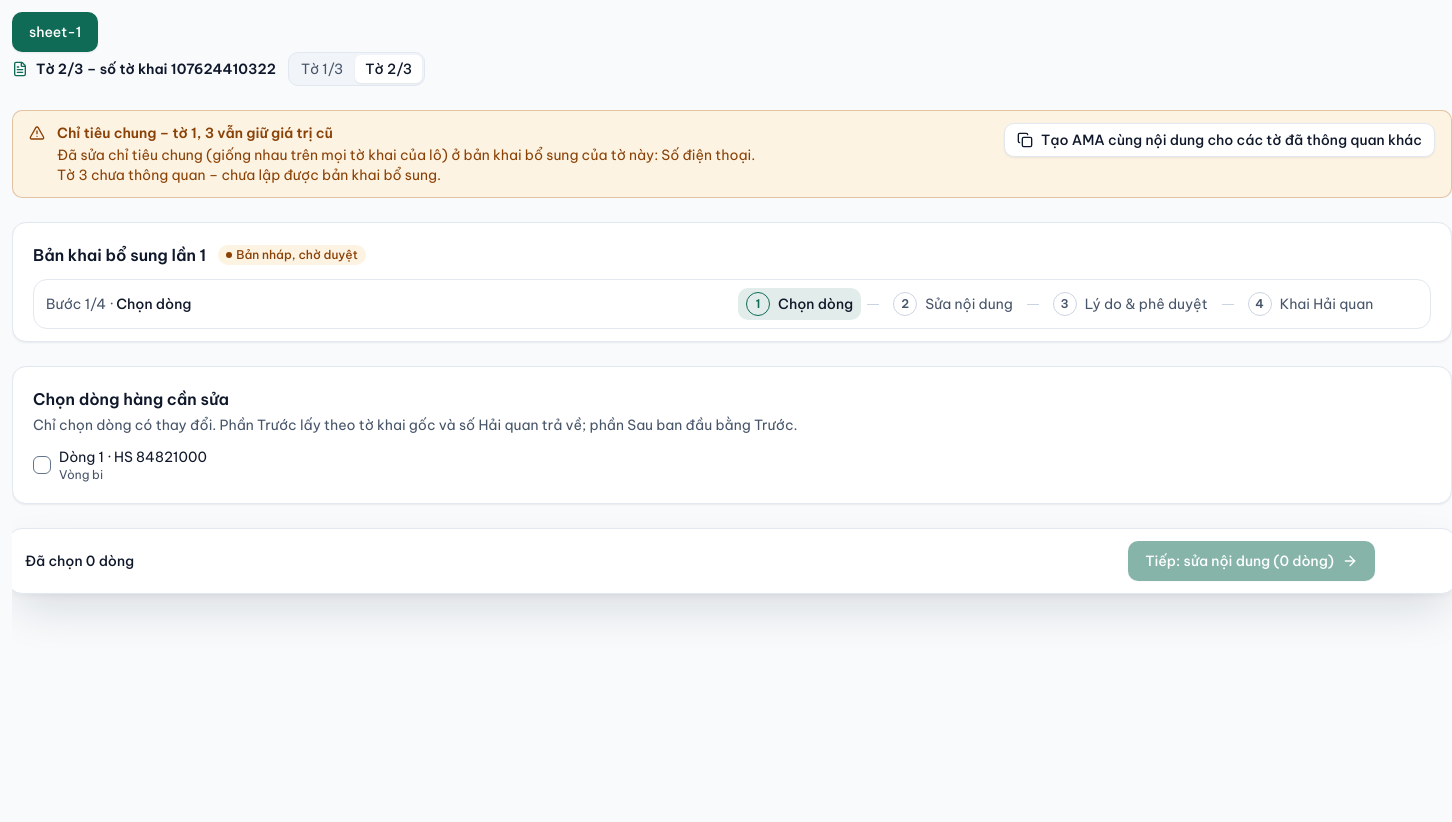
Test: Bước 7 – lô 3 tờ › đổi tờ → kết quả nhân bản của tờ trước không còn hiện
Click the button "Tạo AMA cùng nội dung cho các tờ đã thông quan khác" at (1220, 140), box top-left (1004, 123), bottom-right (1435, 157)
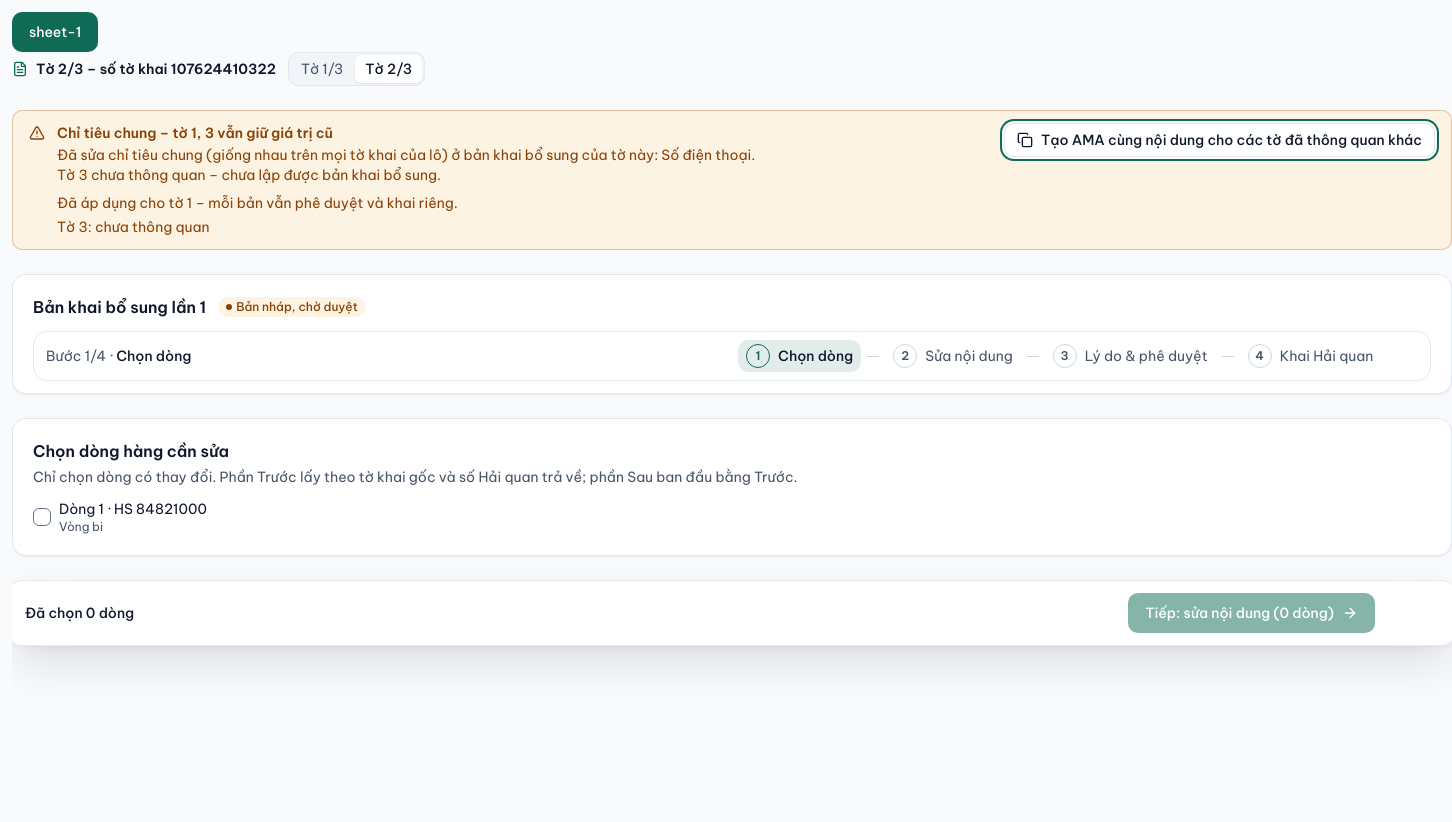
Result: the list item "Đã áp dụng cho tờ 1 – mỗi bản vẫn phê duyệt và khai riêng." is shown at top-left (57, 194), bottom-right (458, 212)
Click the button "sheet-1" at (55, 32), box top-left (12, 12), bottom-right (98, 52)
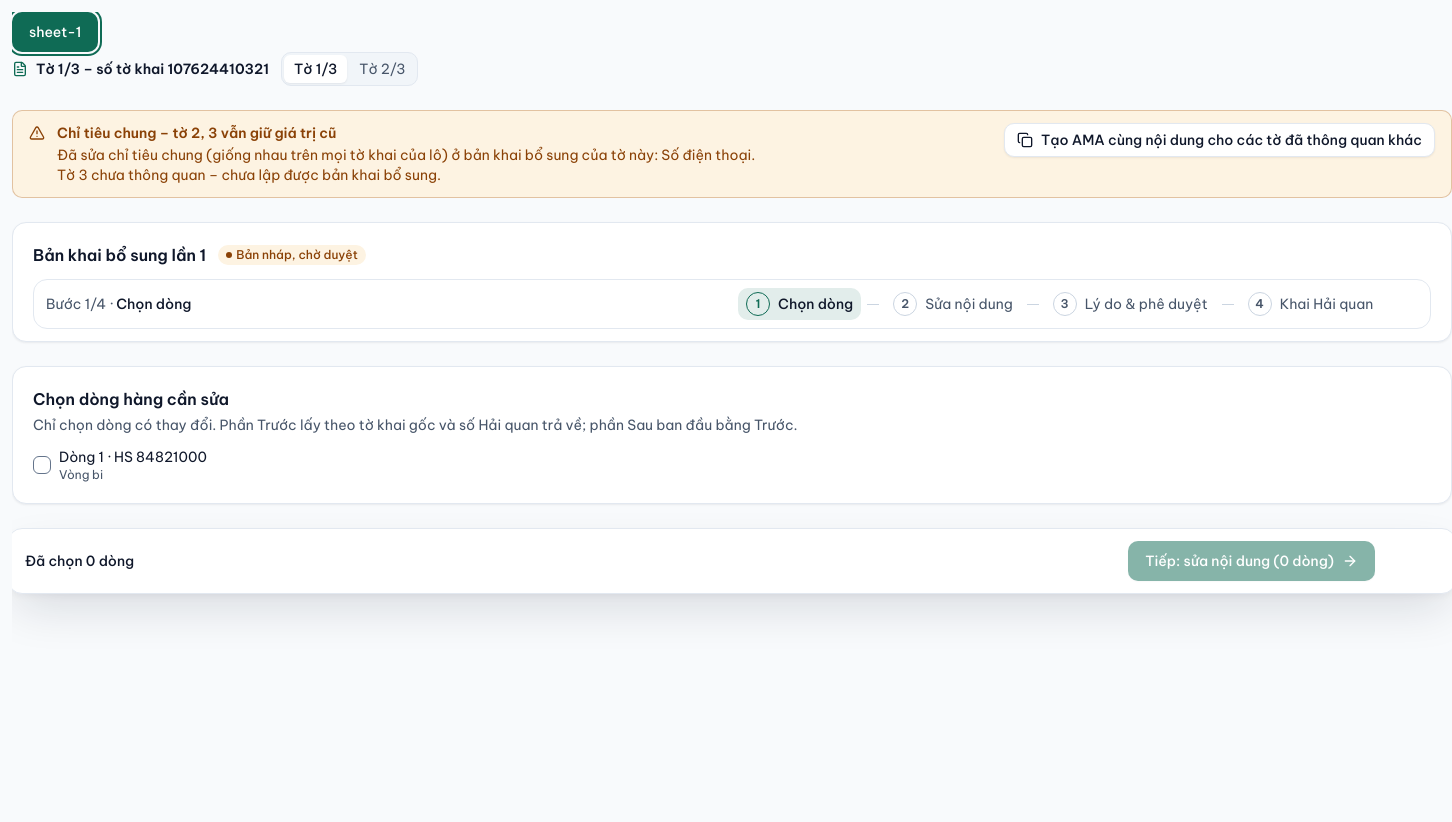
Result: the text "Tờ 1/3 – số tờ khai 107624410321" is shown at top-left (12, 59), bottom-right (269, 79)
Result: the list item "Đã áp dụng cho tờ" is gone
